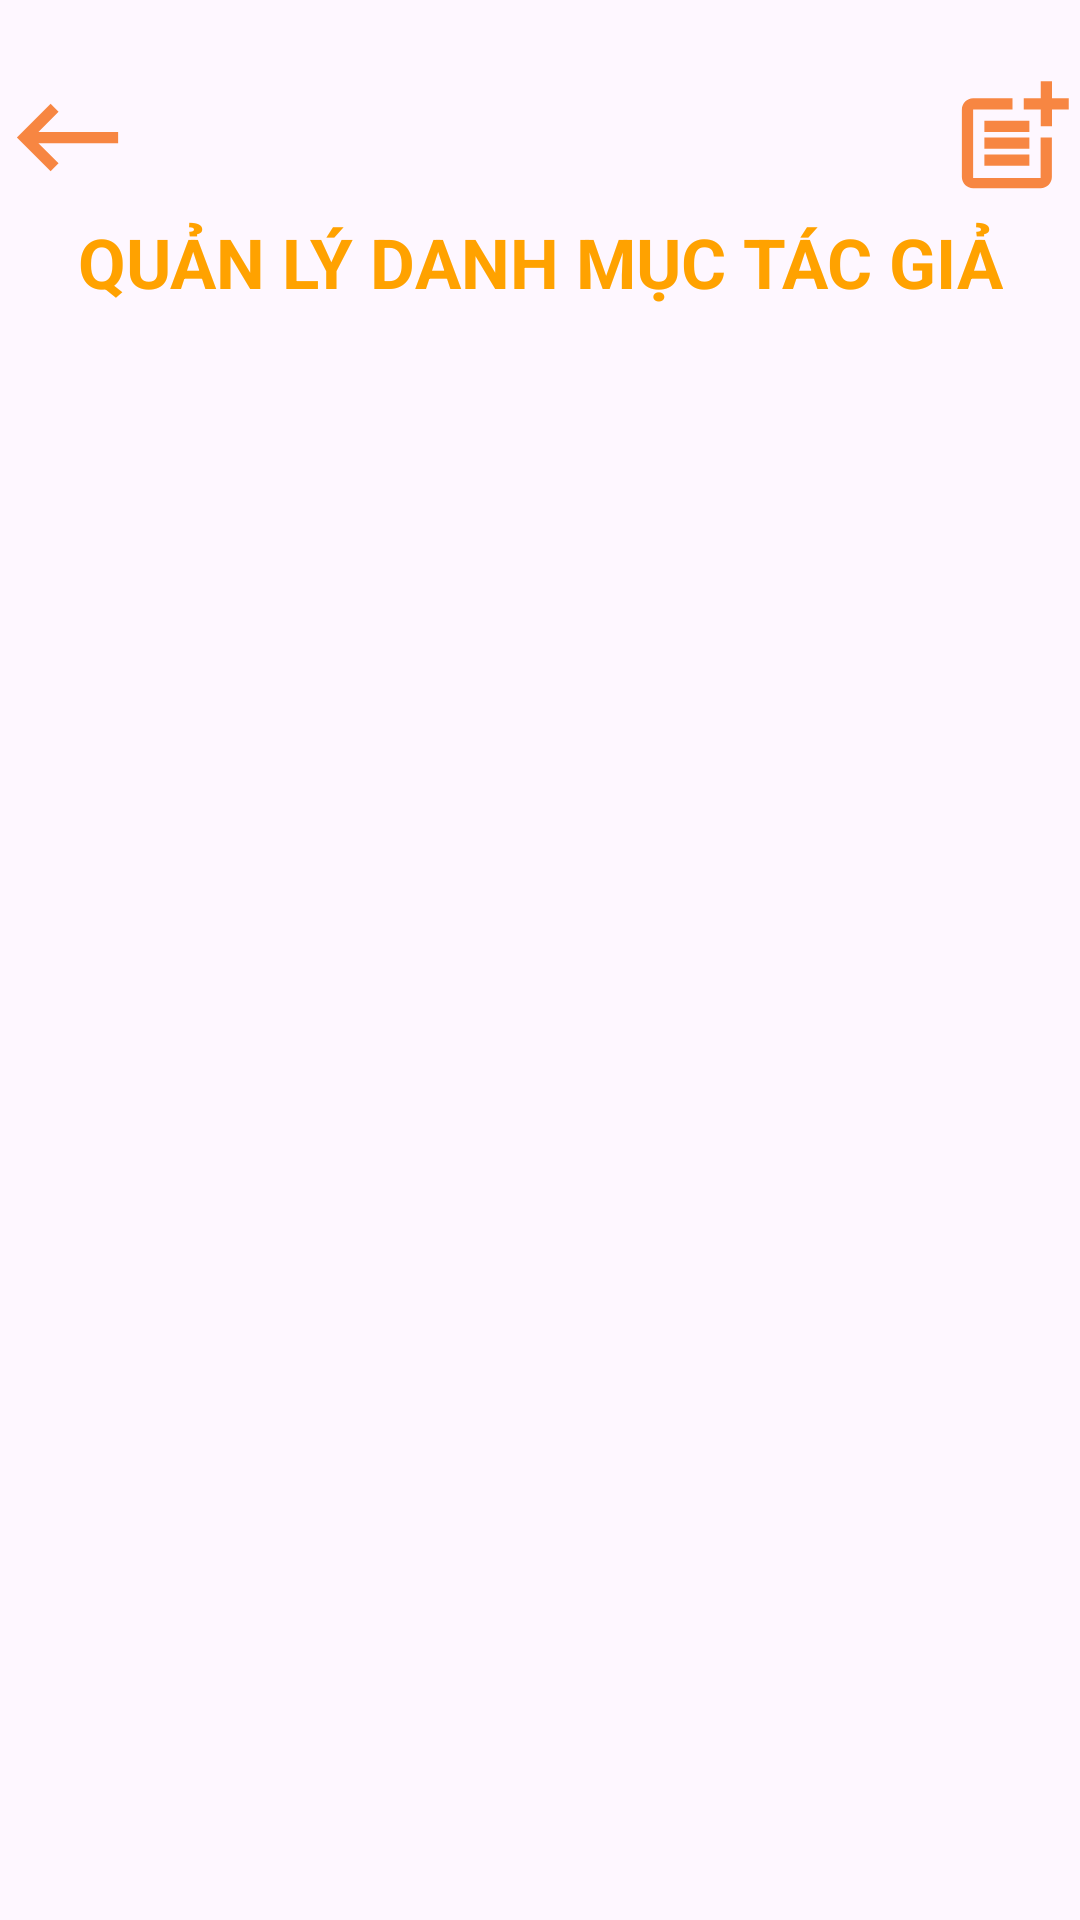

Locate icon controls on the screen. Image size 1080 x 1920, boxes as rect(x1, y1, x2, y2).
add: rect(962, 81, 1069, 189)
previou: rect(17, 104, 118, 171)
